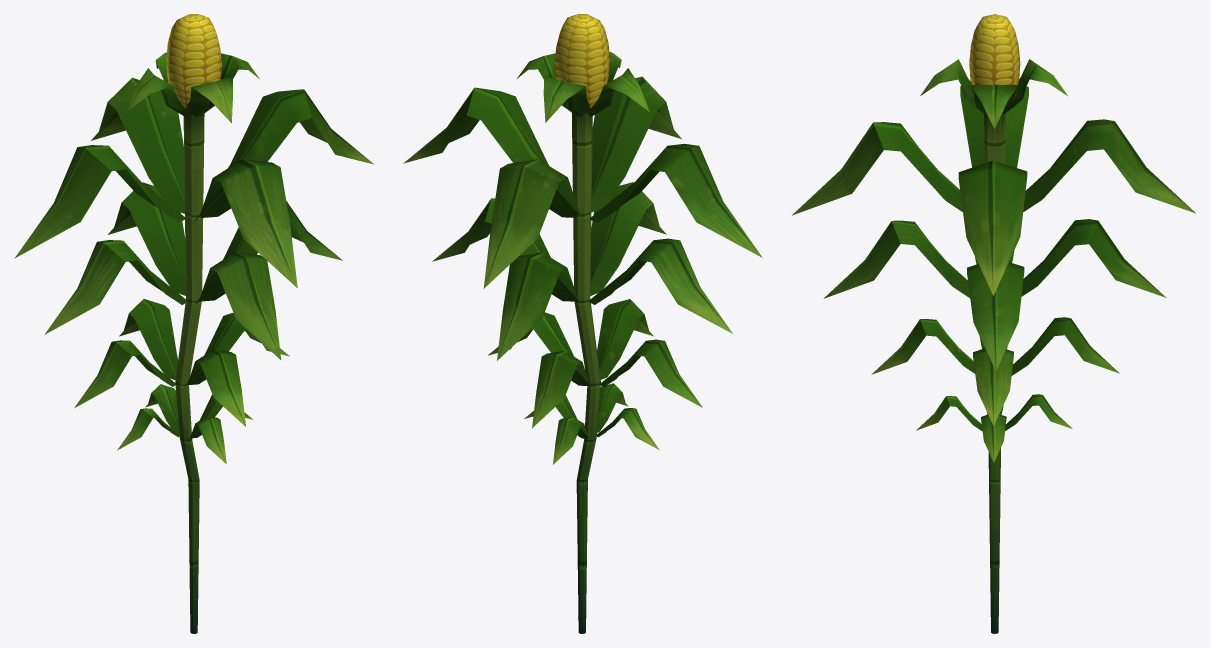
The model's file is Corn.fbx.
3 renders of one model, left to right at view 1: azimuth 30°, elevation 25°; view 2: azimuth 150°, elevation 25°; view 3: azimuth 270°, elevation 25°, orthographic.
Parts seen in each view (by area): view 1: polySurface42; view 2: polySurface42; view 3: polySurface42.
Part boxes in pixels (x1,y1,x2,y2): polySurface42: [14, 14, 373, 633]; polySurface42: [403, 14, 762, 633]; polySurface42: [792, 14, 1195, 633].
Bounding box in the file's own units: 251 × 411 × 245.
1 material, 1 textured.
